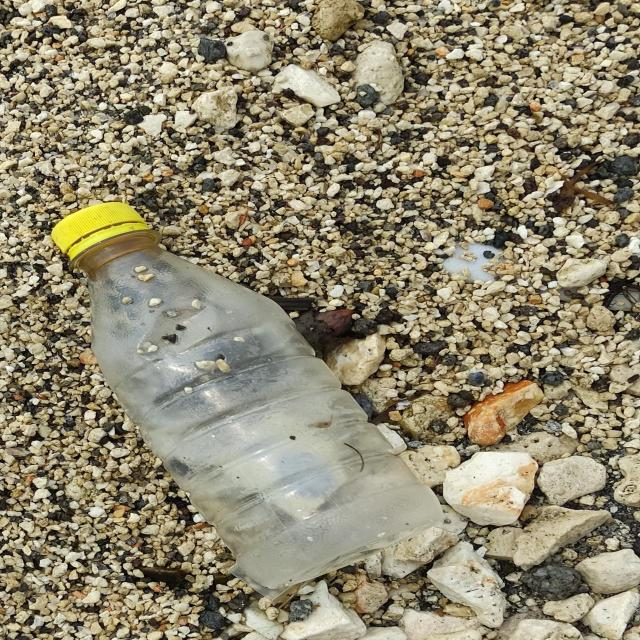plastic_waste: (50, 200, 451, 592)
